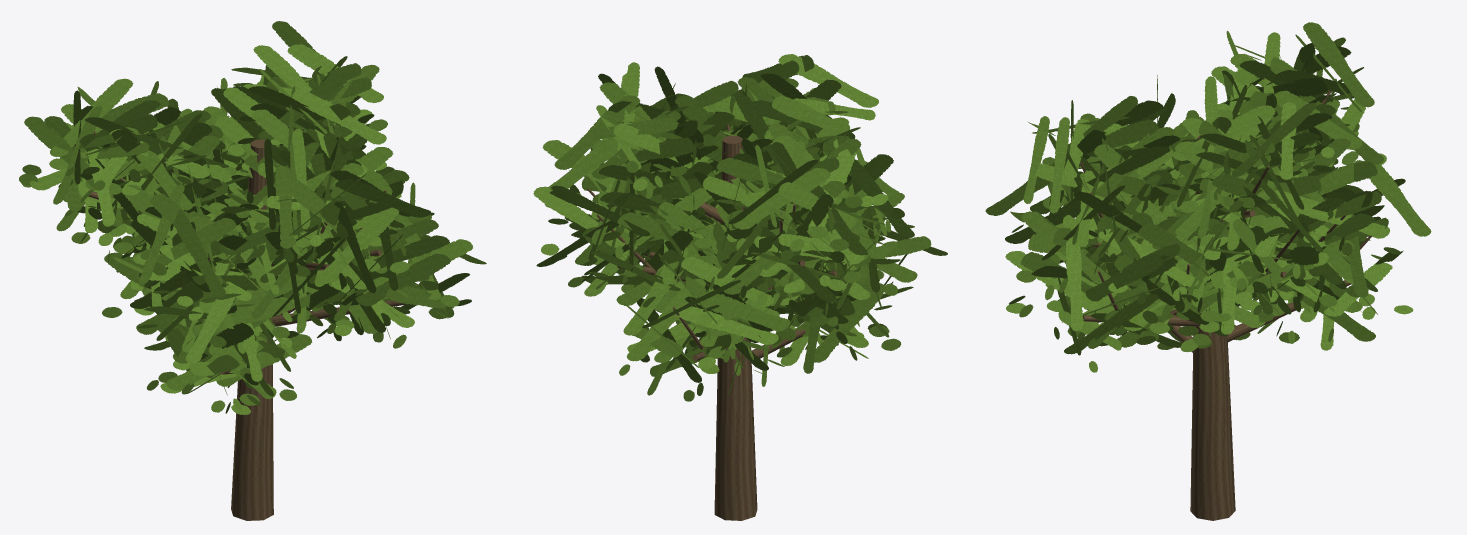
3 renders of one model, left to right at view 1: azimuth 30°, elevation 25°; view 2: azimuth 150°, elevation 25°; view 3: azimuth 270°, elevation 25°, orthographic.
Visible parts, largest first — view 1: oak-leaf, oak-bark; view 2: oak-leaf, oak-bark; view 3: oak-leaf, oak-bark.
Boxes of the visible parts, box(x1,y1,x2,y2) form: oak-leaf: box(19, 21, 486, 414); oak-bark: box(88, 131, 408, 520); oak-leaf: box(533, 54, 947, 401); oak-bark: box(587, 118, 841, 520); oak-leaf: box(985, 22, 1431, 372); oak-bark: box(1080, 90, 1371, 520).
Bounding box in the file's own units: 7.75 × 9.31 × 8.73.
Materials: 2 (2 with a texture image).
